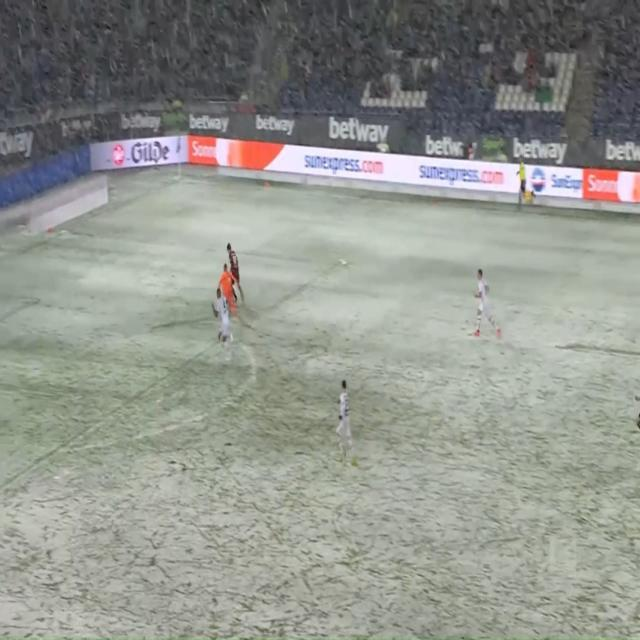goalkeeper: (218, 258, 239, 321)
player: (468, 260, 503, 347), (332, 370, 359, 473), (208, 287, 233, 354), (228, 238, 248, 301)
referee: (512, 155, 536, 211)
